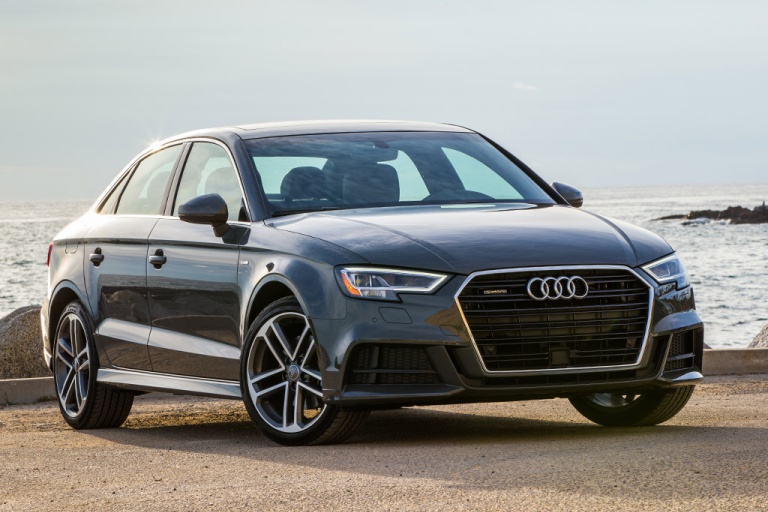audi: (522, 275, 596, 305)
